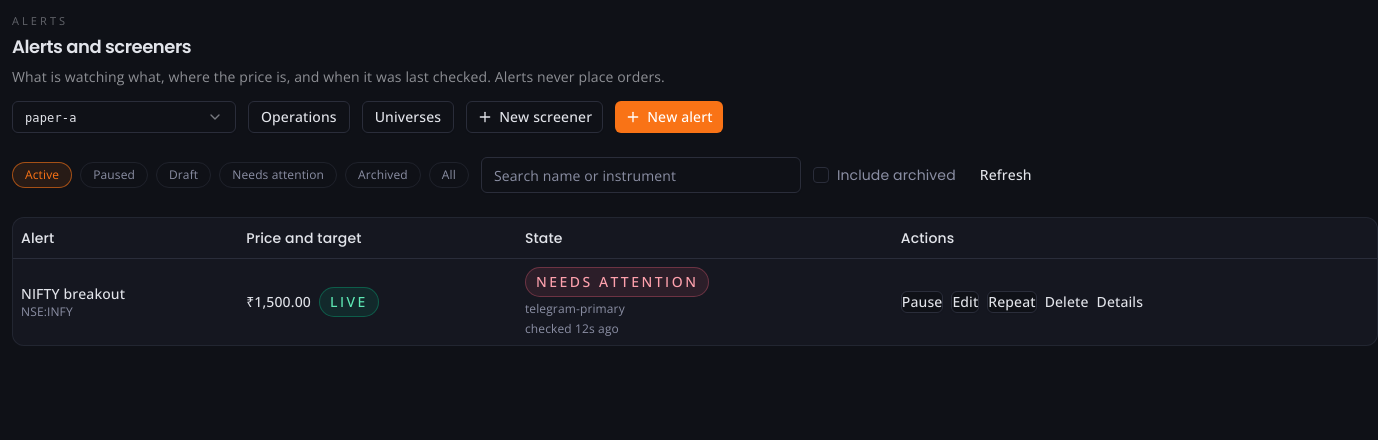
Test: AlertsListPage › surfaces a never-firing warning badge with its message
Check: the link "NIFTY breakout" is shown, box [21,284,125,302]
Check: the text "Needs attention" is shown, box [525,266,709,296]
Step 1. Click the button "Details" → (1120, 302), box [1097,292,1143,312]
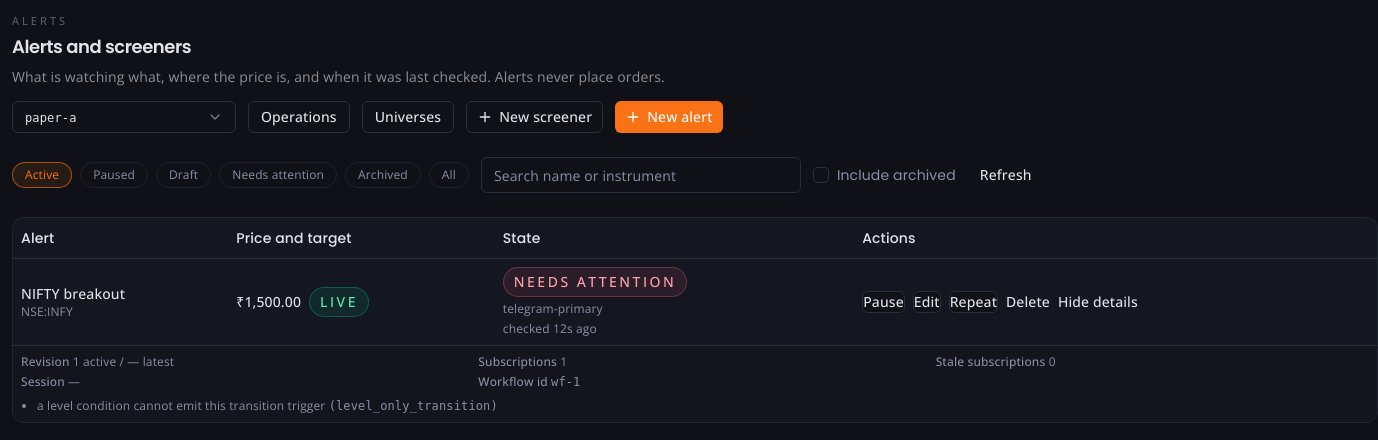
Check: the list item "a level condition cannot emit this transition trigger" is shown, box [37,396,325,414]
Check: the text "(level_only_transition)" is shown, box [329,398,498,412]
